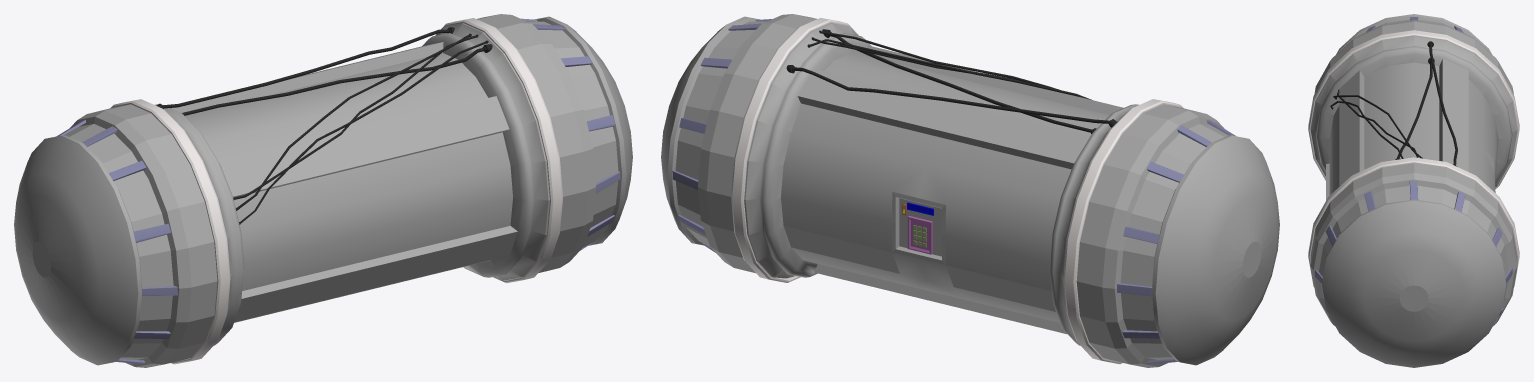
Rendered from bombModel_Activated.fbx.
3 views of the same model, side by side, from view 1: azimuth 30°, elevation 25°; view 2: azimuth 150°, elevation 25°; view 3: azimuth 270°, elevation 25° (orthographic). The views are drawn at different scales.
Visible parts, largest first — view 1: pCylinder1, pCylinder3, pCylinder2, pCube28, wire_2, wire_1, pCylinder6, pCylinder5, pCylinder4; view 2: pCylinder1, pCylinder3, pCylinder2, pCube28, wire_2, wire_1, pCylinder5, polySurface38, pCylinder6; view 3: pCylinder1, pCylinder2, pCylinder3, pCube28, wire_2, wire_1, pCylinder5, pCylinder6, pCylinder4.
Part boxes in pixels (box(x1,y1,x2,y2)): pCylinder1: box(14, 14, 632, 367); pCylinder3: box(435, 18, 562, 283); pCylinder2: box(110, 99, 230, 364); pCube28: box(56, 18, 620, 364); wire_2: box(156, 27, 454, 108); wire_1: box(182, 44, 492, 115); pCylinder6: box(239, 40, 488, 224); pCylinder5: box(236, 33, 471, 210); pCylinder4: box(233, 34, 478, 199); pCylinder1: box(661, 14, 1279, 367); pCylinder3: box(731, 18, 858, 282); pCylinder2: box(1063, 99, 1183, 364); pCube28: box(672, 19, 1235, 364); wire_2: box(786, 65, 1116, 127); wire_1: box(822, 29, 1096, 133); pCylinder5: box(807, 39, 1091, 99); polySurface38: box(907, 216, 932, 254); pCylinder6: box(819, 30, 1059, 89); pCylinder1: box(1310, 14, 1517, 367); pCylinder2: box(1308, 30, 1519, 188); pCylinder3: box(1308, 157, 1519, 286); pCube28: box(1315, 17, 1512, 316); wire_2: box(1427, 41, 1457, 166); wire_1: box(1395, 58, 1434, 159); pCylinder5: box(1333, 95, 1422, 158); pCylinder6: box(1330, 101, 1403, 158); pCylinder4: box(1337, 89, 1418, 157).
Size of the model in its own units: 28.44 by 11.81 by 11.81.
